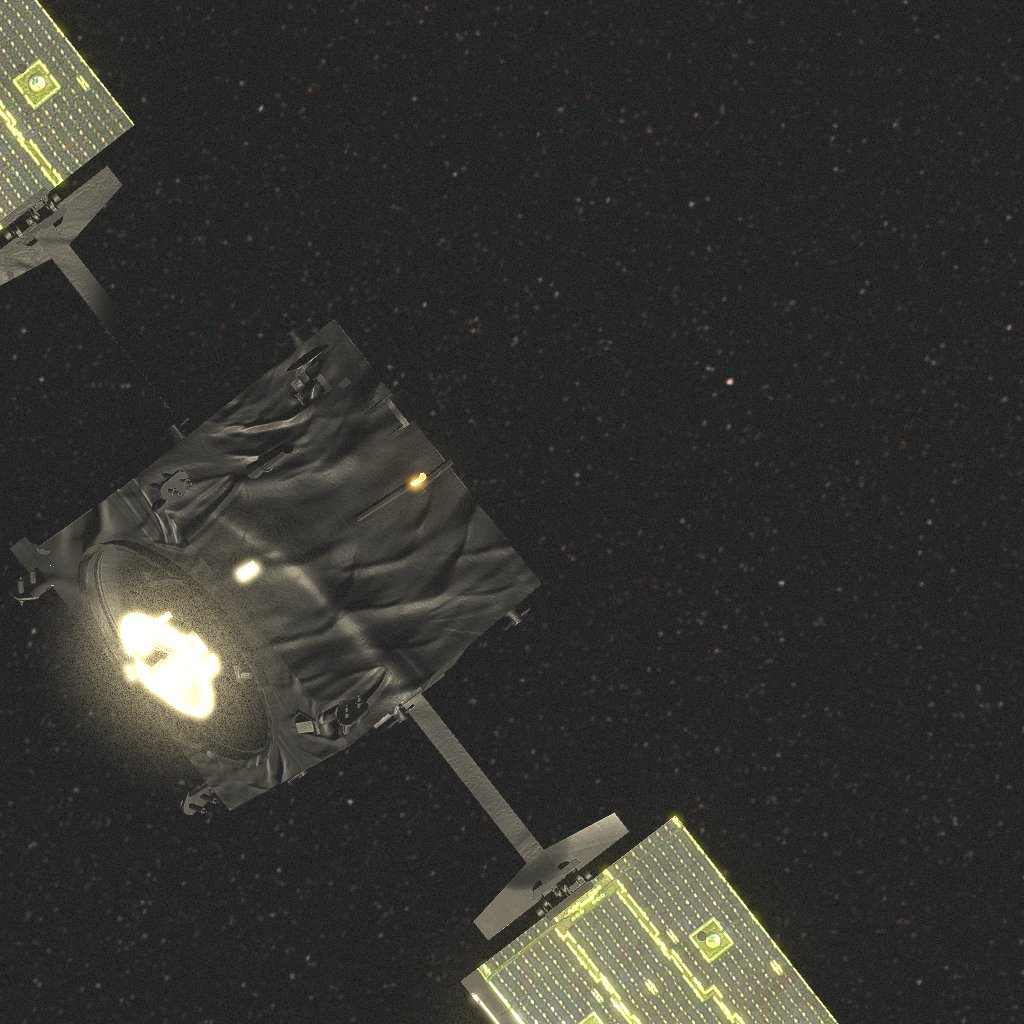smart_1: (0, 0, 839, 1024)
